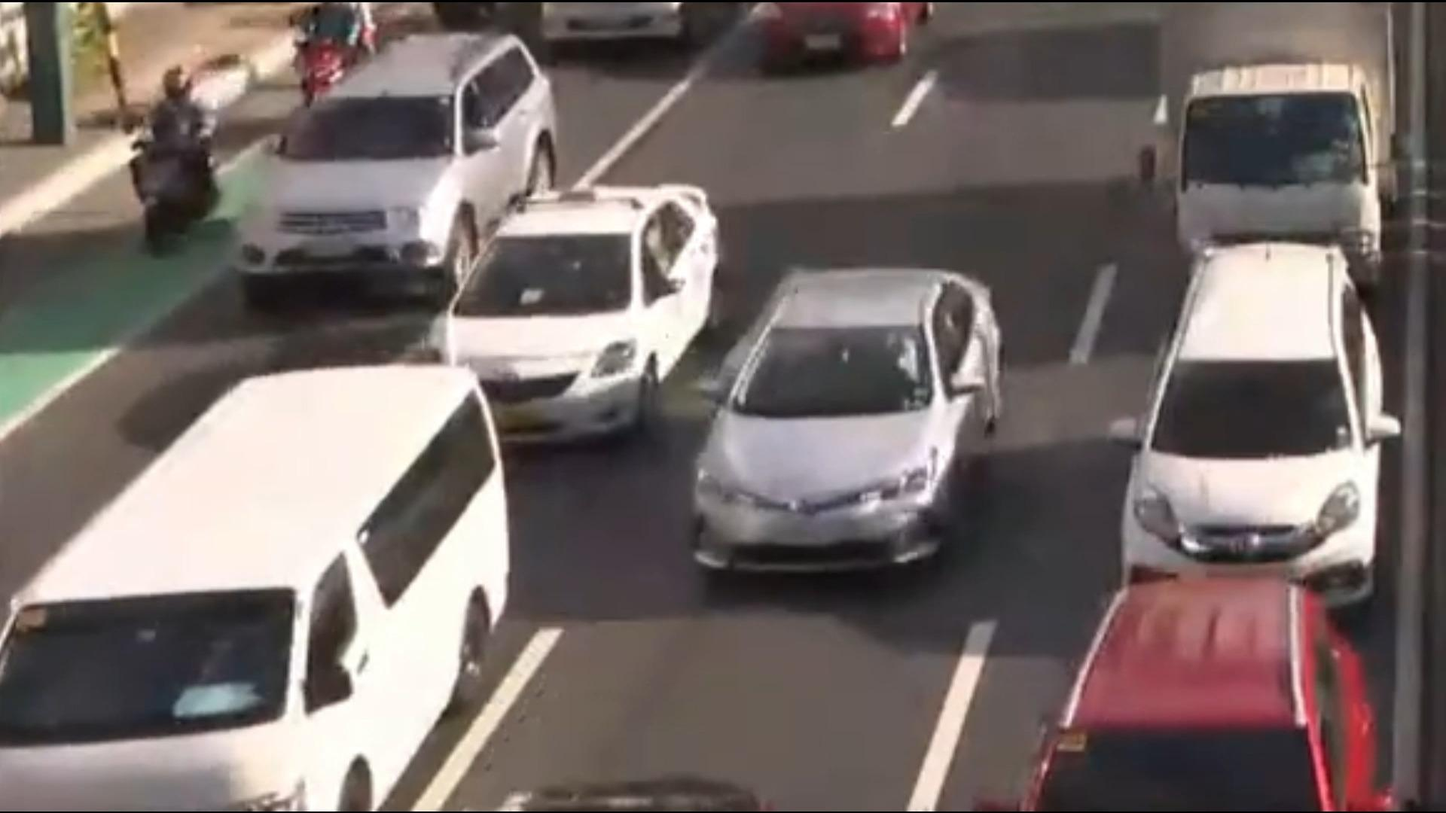Motorcycle: (126, 51, 218, 252), (281, 0, 384, 105)
SUV: (1109, 243, 1399, 598), (211, 30, 565, 303), (1030, 583, 1374, 813)
Sedan: (685, 265, 998, 570), (420, 181, 714, 450)
Truck: (1141, 0, 1422, 305)
Van: (0, 363, 510, 813)
